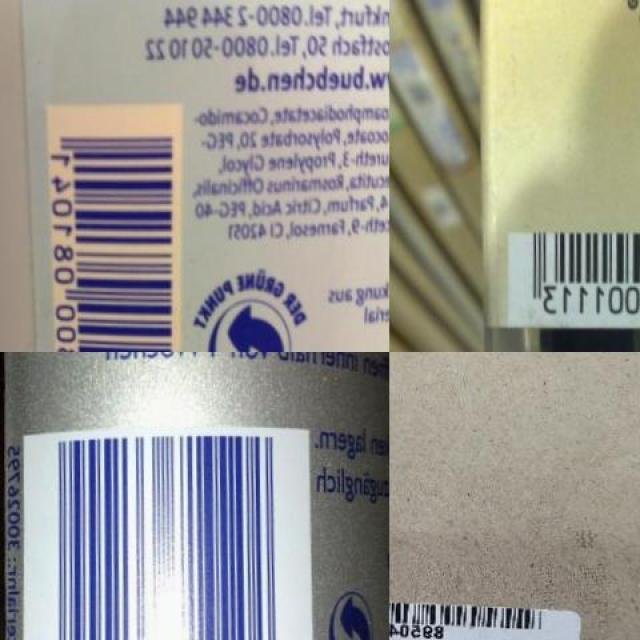Barcode: (23, 416, 316, 640), (40, 93, 183, 352), (504, 223, 640, 325), (389, 588, 551, 639)
